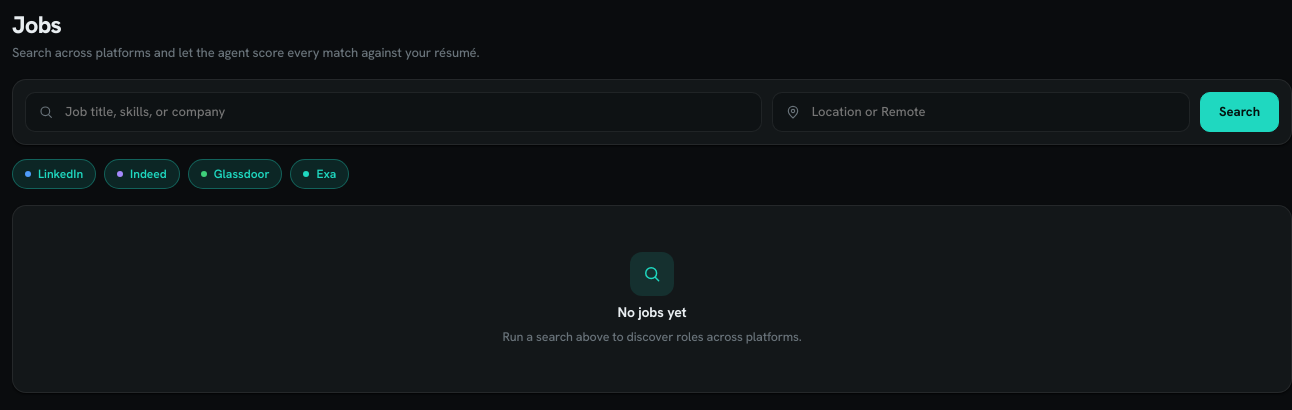
Test: JobSearchPage › distinguishes "no results for this search" from "not searched yet" (BUG-008)
Expected: the text "No jobs yet" is shown, [617,304,687,320]
Run a search that returns nothing.
Type "unobtanium" into the field named "job title or keywords" at point(406, 112), box [63,102,749,121]
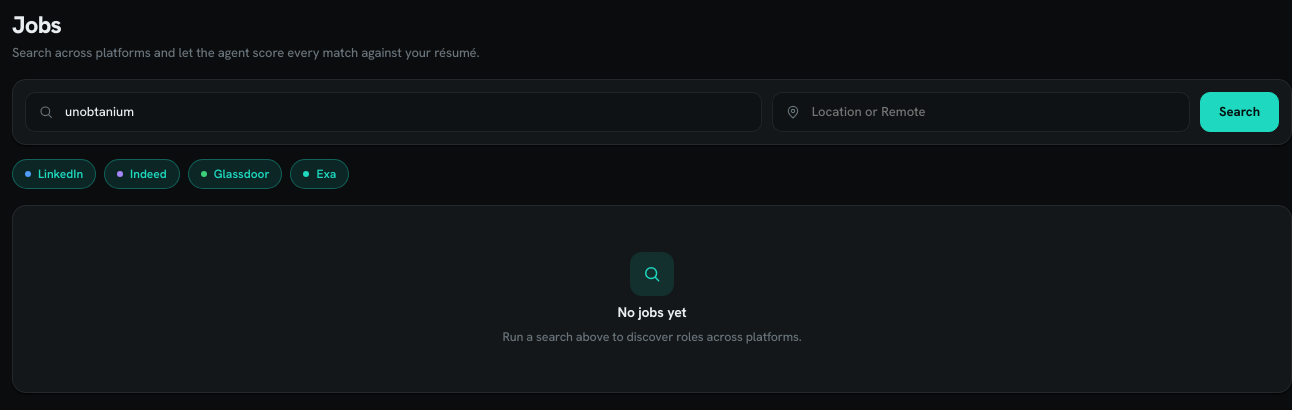
Click the button "Search" at point(1240, 112), box [1200,92,1279,132]
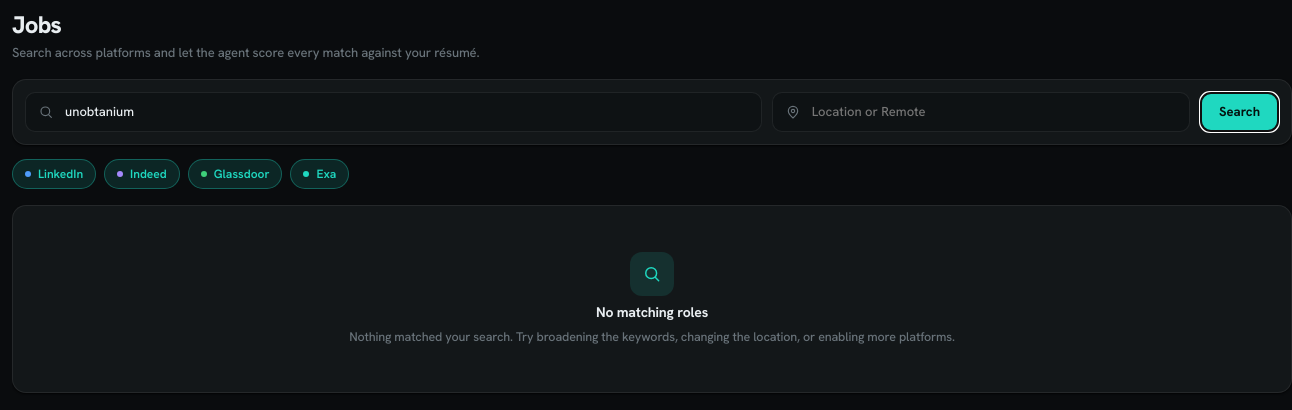
Expected: the text "No matching roles" is shown, [596,304,708,320]
Expected: the text "No jobs yet" is gone
